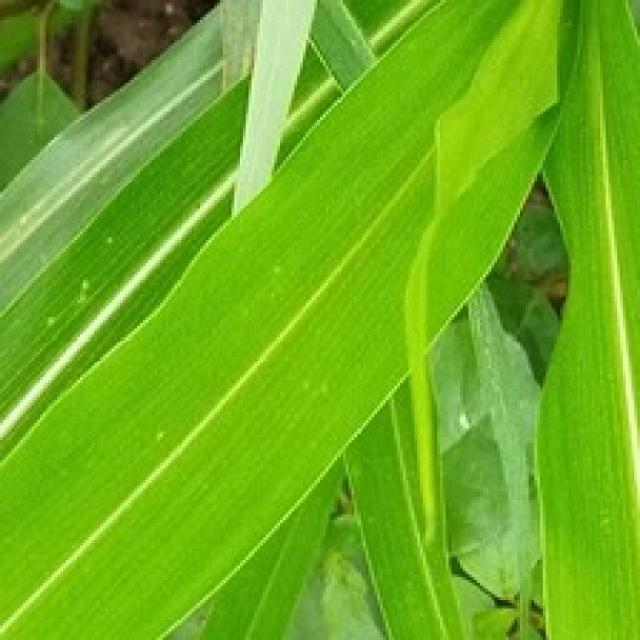Corn: (0, 0, 637, 637), (532, 0, 637, 637)
